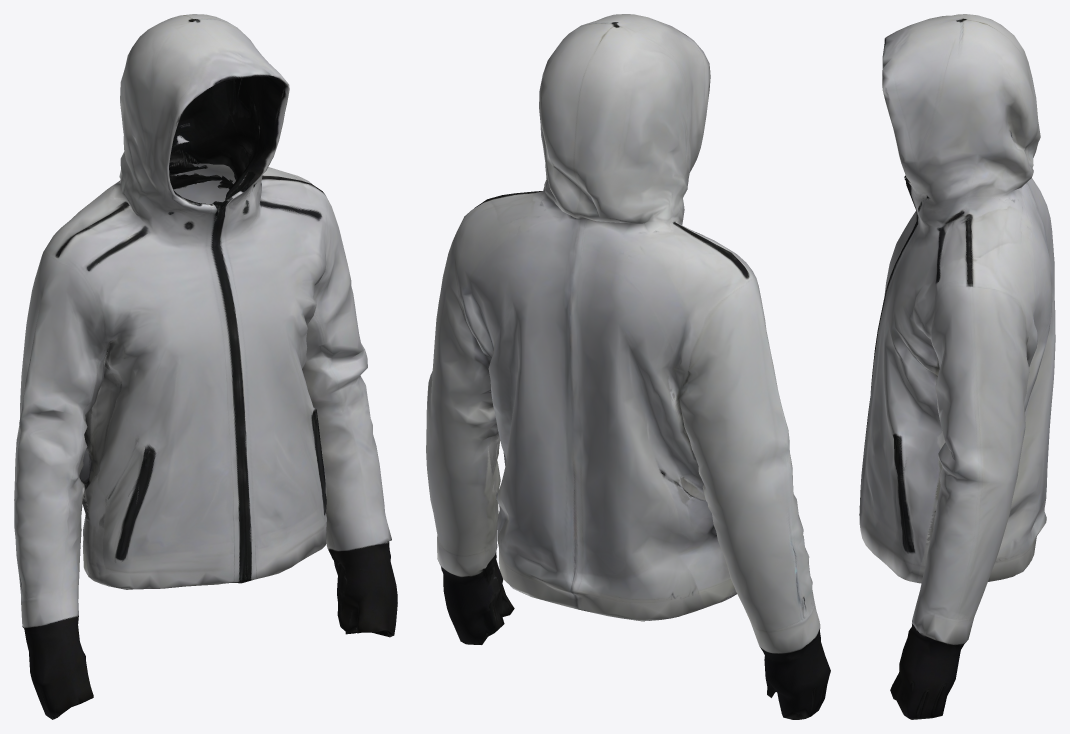
File: impermeable.glb
3 renders of one model, left to right at view 1: azimuth 30°, elevation 25°; view 2: azimuth 150°, elevation 25°; view 3: azimuth 270°, elevation 25°, orthographic. The views are drawn at different scales.
Size of the model in its own units: 1.18 by 1.99 by 0.5687.
Materials: 1 (1 with a texture image).
